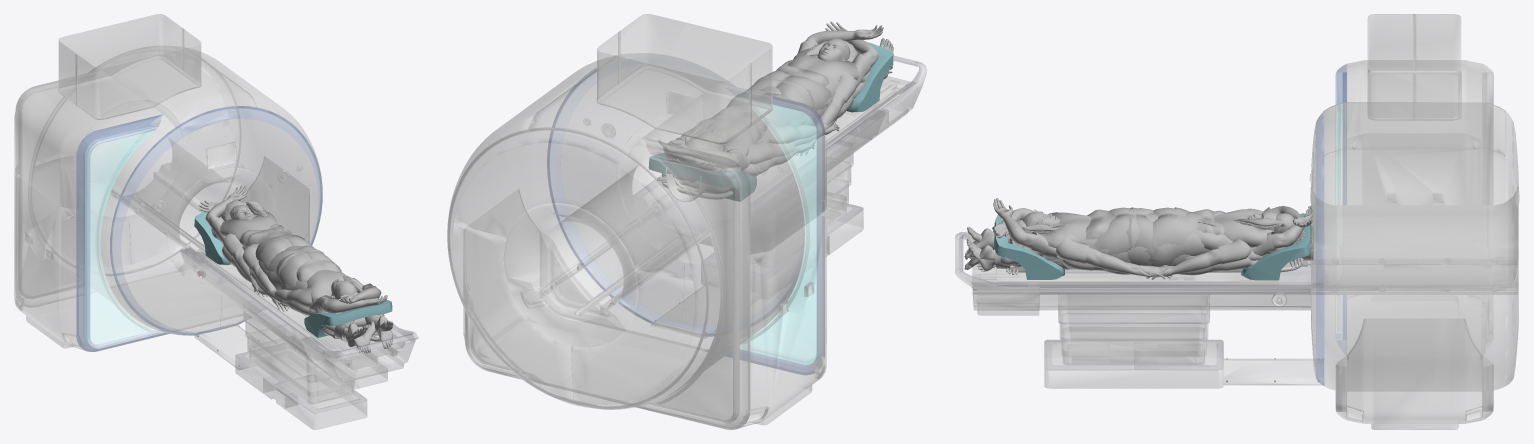
File: Olivia.glb
3 renders of one model, left to right at view 1: azimuth 30°, elevation 25°; view 2: azimuth 150°, elevation 25°; view 3: azimuth 270°, elevation 25°, orthographic. The views are drawn at different scales.
Parts seen in each view (by area): view 1: SM_MRI_base, Table, SM_MRI_bed_inOut.001, SM_head_arm_rest1.001, F3_baseMesh1.001, F3_baseMesh1, F3_baseMesh8, scrubPants8, scrubShirt9, SM_head_arm_rest1, scrubShirt5, scrubShirt1.001 (+5 smaller); view 2: SM_MRI_base, Table, SM_head_arm_rest1, F3_baseMesh1.001, F3_baseMesh1, SM_head_arm_rest1.001, scrubShirt10, scrubShirt9, scrubShirt5, scrubShirt1.001, scrubPants8, SM_MRI_bed_inOut.001 (+6 smaller); view 3: SM_MRI_base, Table, SM_MRI_bed_inOut.001, SM_head_arm_rest1, F3_baseMesh1.001, SM_head_arm_rest1.001, scrubPants8, scrubShirt9, F3_baseMesh1, scrubShirt10, scrubShirt1.001, scrubPants10 (+9 smaller).
Boxes of the visible parts, left/top/right/bottom form: SM_MRI_base: left=14, top=14, right=322, bottom=351; Table: left=180, top=248, right=418, bottom=429; SM_MRI_bed_inOut.001: left=205, top=257, right=394, bottom=360; SM_head_arm_rest1.001: left=304, top=298, right=392, bottom=337; F3_baseMesh1.001: left=219, top=216, right=387, bottom=313; F3_baseMesh1: left=198, top=185, right=263, bottom=227; F3_baseMesh8: left=251, top=262, right=393, bottom=353; scrubPants8: left=278, top=250, right=380, bottom=338; scrubShirt9: left=211, top=211, right=304, bottom=240; SM_head_arm_rest1: left=194, top=212, right=230, bottom=264; scrubShirt5: left=308, top=269, right=347, bottom=313; scrubShirt1.001: left=296, top=259, right=372, bottom=312; SM_MRI_base: left=447, top=14, right=826, bottom=429; Table: left=633, top=56, right=926, bottom=338; SM_head_arm_rest1: left=648, top=153, right=756, bottom=201; F3_baseMesh1.001: left=679, top=21, right=883, bottom=171; F3_baseMesh1: left=658, top=129, right=740, bottom=170; SM_head_arm_rest1.001: left=846, top=42, right=893, bottom=112; scrubShirt10: left=726, top=94, right=788, bottom=164; scrubShirt9: left=680, top=117, right=753, bottom=171; scrubShirt5: left=788, top=55, right=867, bottom=82; scrubShirt1.001: left=776, top=41, right=870, bottom=86; scrubPants8: left=764, top=70, right=831, bottom=110; SM_MRI_bed_inOut.001: left=667, top=87, right=896, bottom=203; SM_MRI_base: left=1310, top=14, right=1519, bottom=429; Table: left=955, top=232, right=1323, bottom=388; SM_MRI_bed_inOut.001: left=996, top=268, right=1278, bottom=286; SM_head_arm_rest1: left=1241, top=213, right=1311, bottom=280; F3_baseMesh1.001: left=992, top=198, right=1304, bottom=248; SM_head_arm_rest1.001: left=994, top=215, right=1064, bottom=279; scrubPants8: left=995, top=207, right=1133, bottom=265; scrubShirt9: left=1174, top=207, right=1284, bottom=253; F3_baseMesh1: left=1248, top=205, right=1313, bottom=248; scrubShirt10: left=1174, top=207, right=1251, bottom=264; scrubShirt1.001: left=1031, top=209, right=1116, bottom=259; scrubPants10: left=1148, top=207, right=1177, bottom=261.
Bounding box in the file's own units: 1.94 × 2.02 × 3.38.
Materials: 6 (3 with a texture image).
